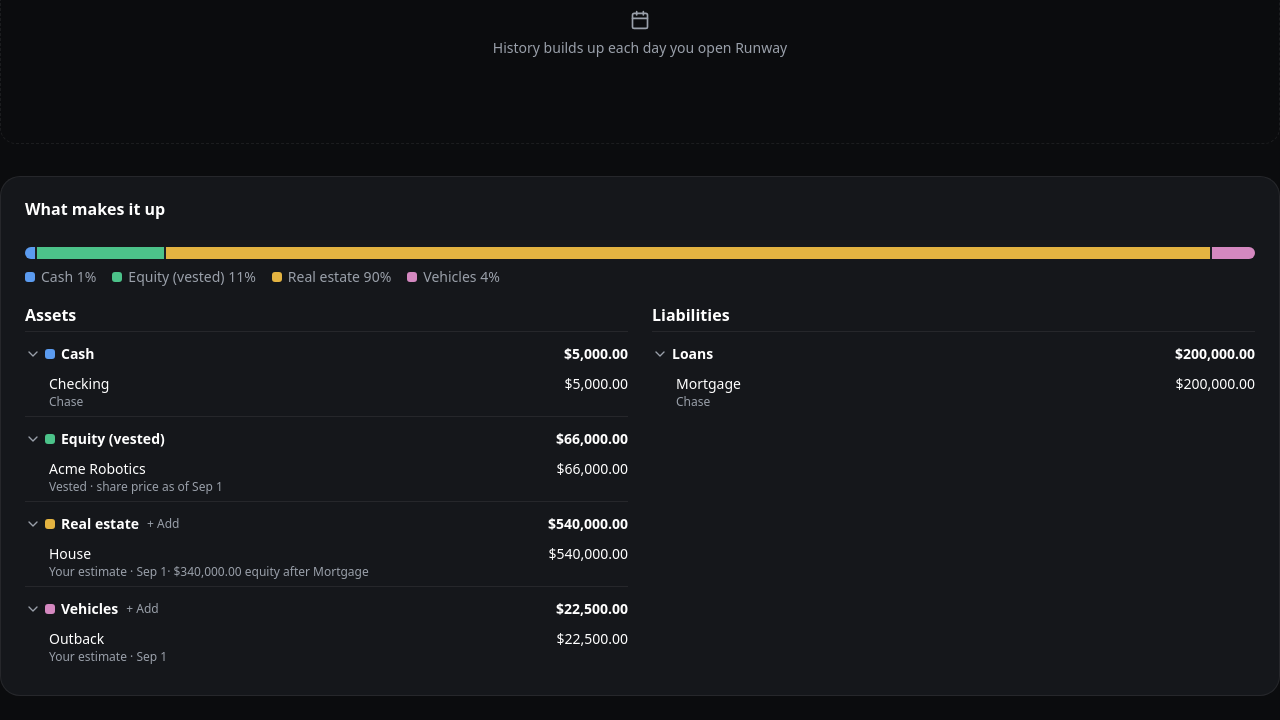
the breakdown › edits details in the panel and goes back to the summary
(page scrolled)
Click the button "Outback Your estimate · Sep 1 $22,500.00": click(77, 638) [25,623,628,671]
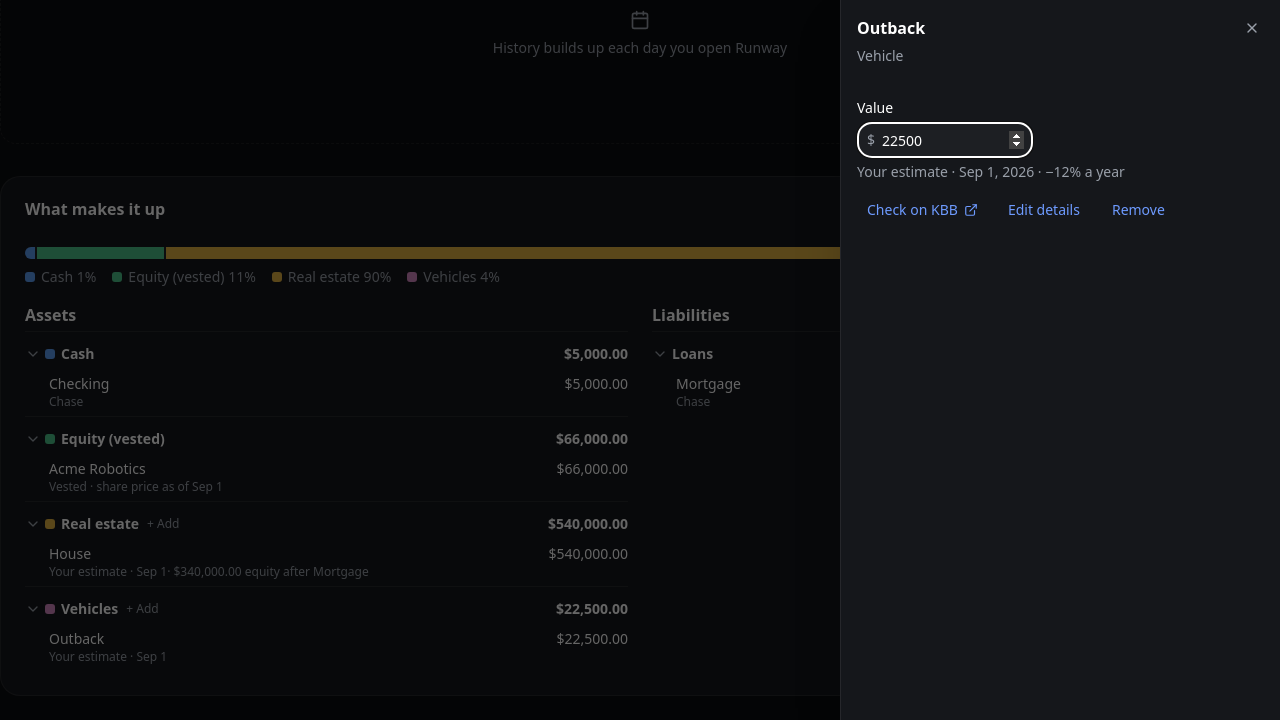
Click the button "Edit details": click(1044, 210) [996,194,1092,226]
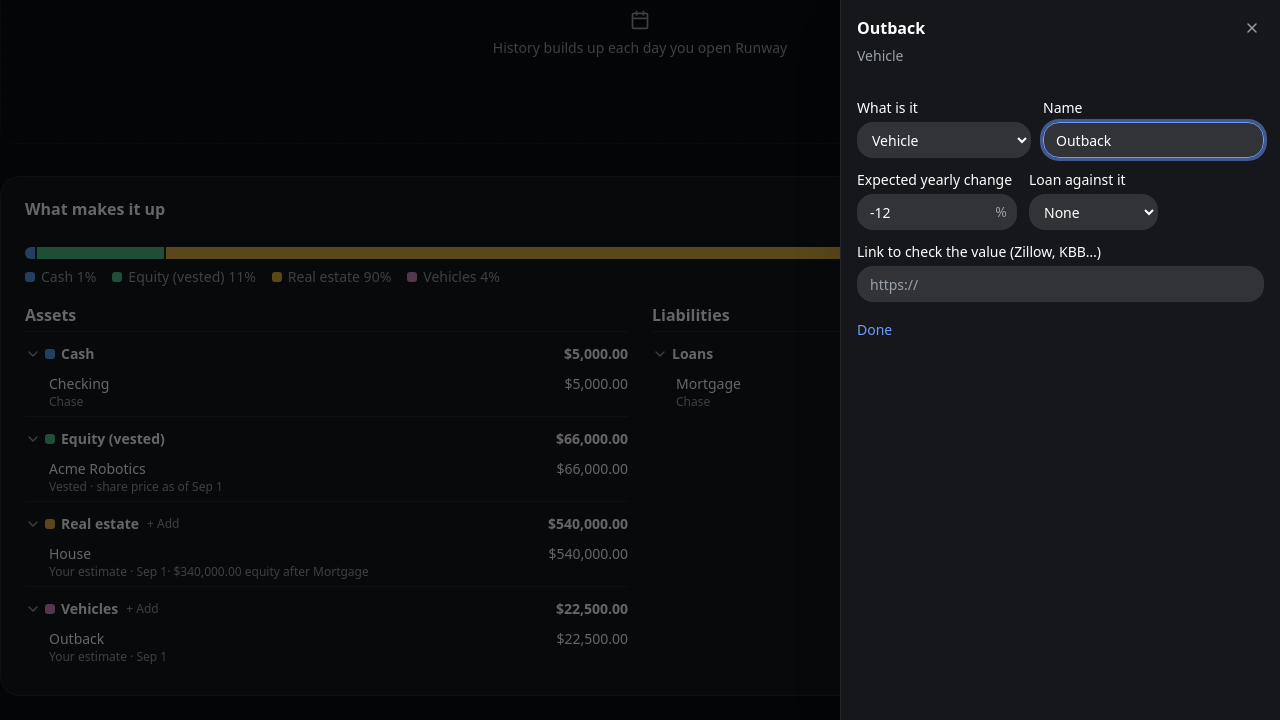
Expected: the field labelled "Name" holds "Outback", [1043,122,1264,158]
Click the button "Done": click(875, 330) [857,314,892,346]
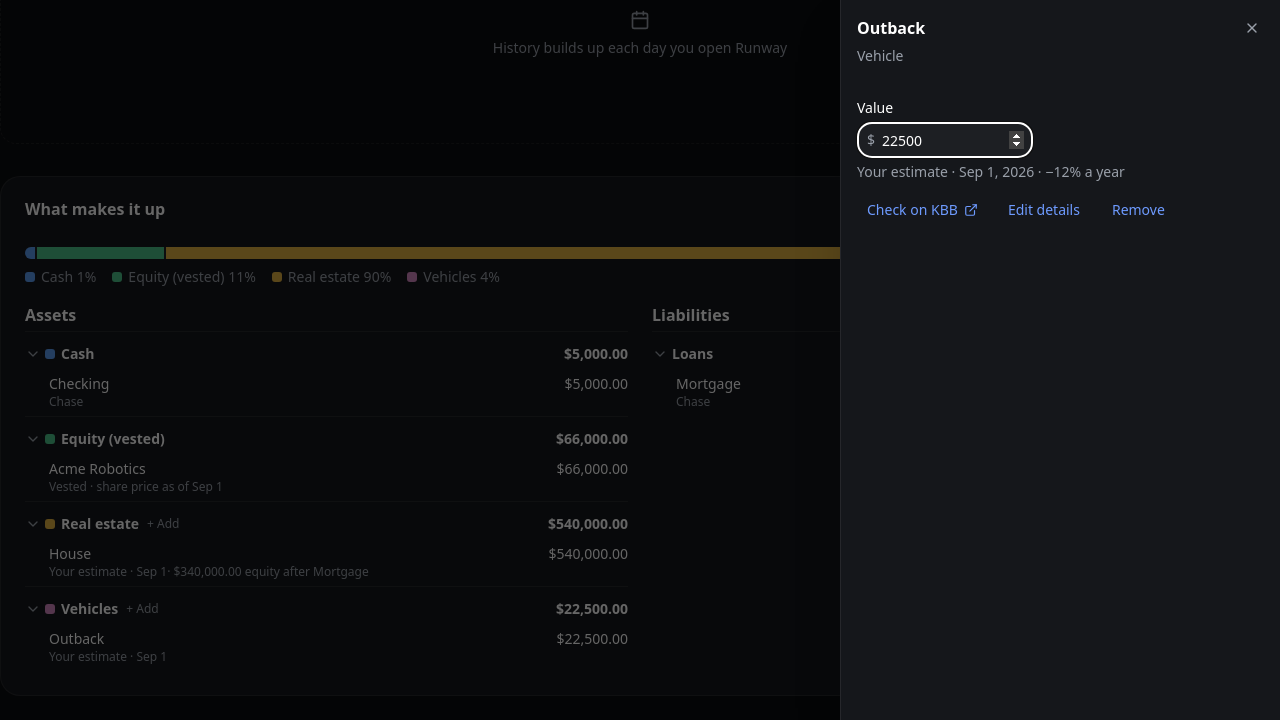
Expected: the number field labelled "Value $" is shown, [857,122,1033,158]
